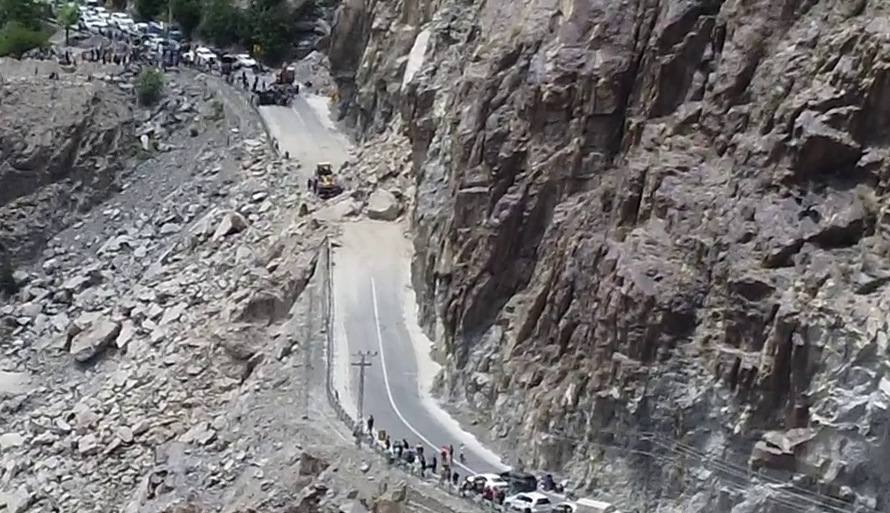unexpected: (277, 138, 553, 292)
